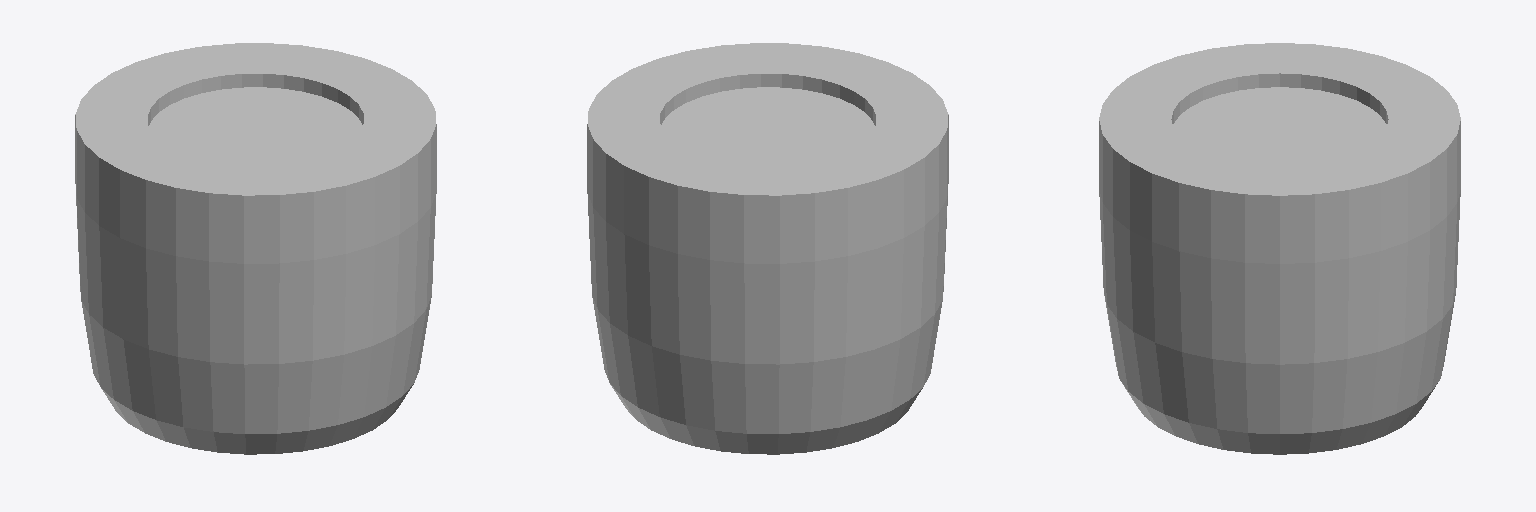
File: admin hole.obj
The picture shows the model from 3 angles: view 1: azimuth 30°, elevation 25°; view 2: azimuth 150°, elevation 25°; view 3: azimuth 270°, elevation 25°; orthographic projection.
Visible parts, largest first — view 1: Cube.015_Cube.017; view 2: Cube.015_Cube.017; view 3: Cube.015_Cube.017.
Part boxes in pixels (bbox=[...]): Cube.015_Cube.017: bbox=[75, 43, 436, 454]; Cube.015_Cube.017: bbox=[587, 43, 948, 454]; Cube.015_Cube.017: bbox=[1099, 43, 1460, 454].
Size of the model in its own units: 3 by 2.5 by 3.